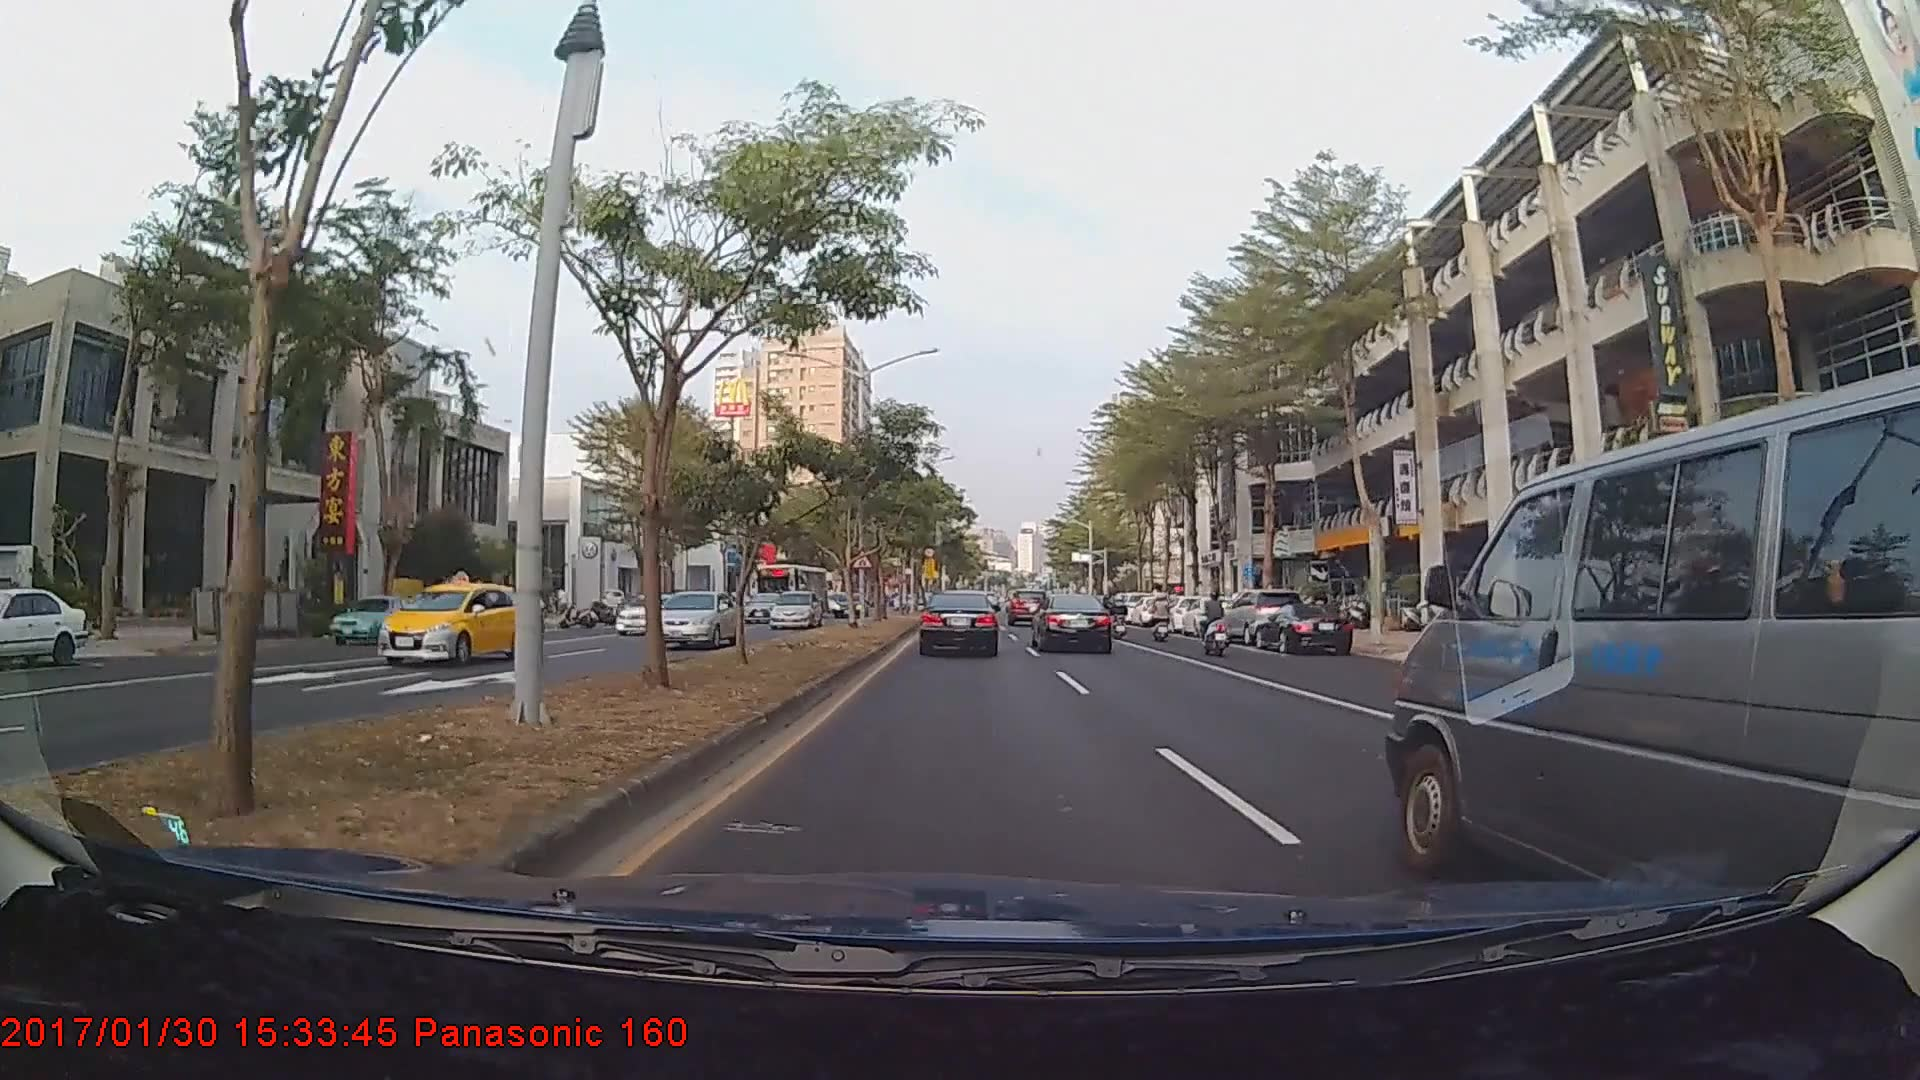rider: (1196, 590, 1237, 661), (1145, 587, 1176, 645), (1109, 589, 1131, 638)
vehicle: (1398, 394, 1912, 907), (374, 576, 529, 668), (918, 590, 1000, 658), (1033, 591, 1112, 655), (654, 590, 739, 649), (329, 594, 424, 643), (1222, 589, 1306, 647), (1254, 603, 1352, 652), (751, 563, 830, 624), (614, 591, 687, 633), (1180, 594, 1241, 635), (766, 589, 820, 630), (1005, 590, 1047, 627), (828, 591, 864, 618)
